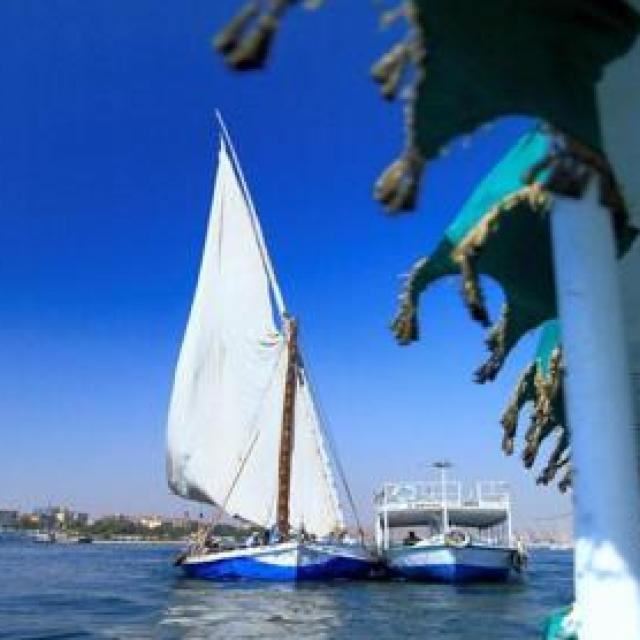houseboat: (376, 446, 531, 585)
passenger ship: (177, 99, 374, 578)
